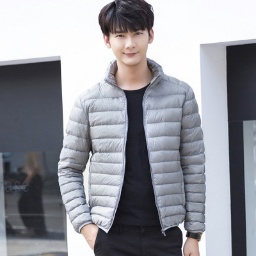face: (96, 1, 158, 66)
